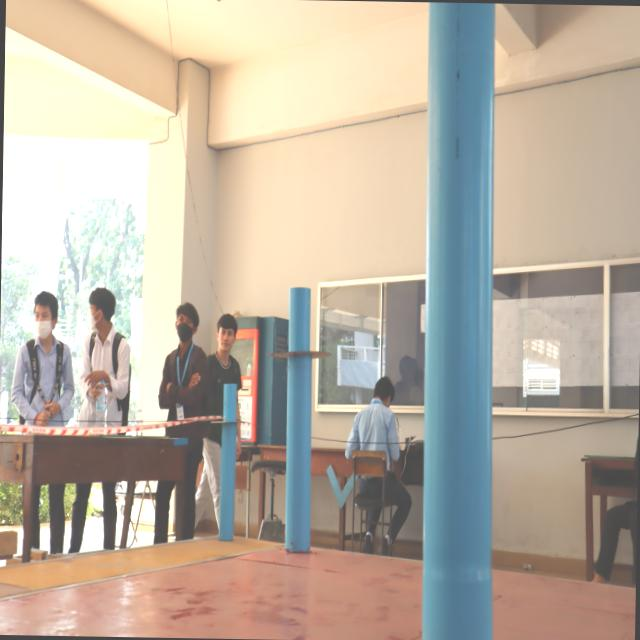pole: (267, 284, 330, 416), (208, 385, 248, 446)
